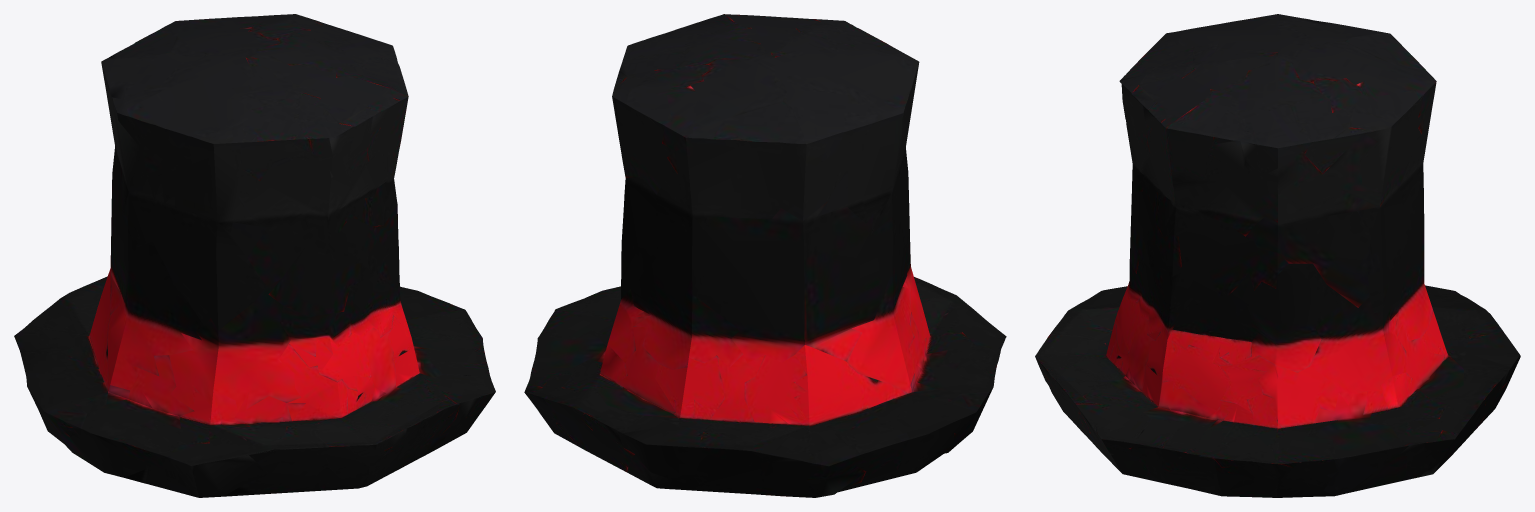
The model's file is cos-tophat.glb.
3 renders of one model, left to right at view 1: azimuth 30°, elevation 25°; view 2: azimuth 150°, elevation 25°; view 3: azimuth 270°, elevation 25°, orthographic.
Visible parts, largest first — view 1: output_unwrapped; view 2: output_unwrapped; view 3: output_unwrapped.
Boxes of the visible parts, x1,y1,x2,y2 form: output_unwrapped: (14,14,495,497); output_unwrapped: (524,14,1006,497); output_unwrapped: (1035,14,1520,497).
Size of the model in its own units: 1.9 by 1.53 by 1.9.
Materials: 1 (1 with a texture image).
